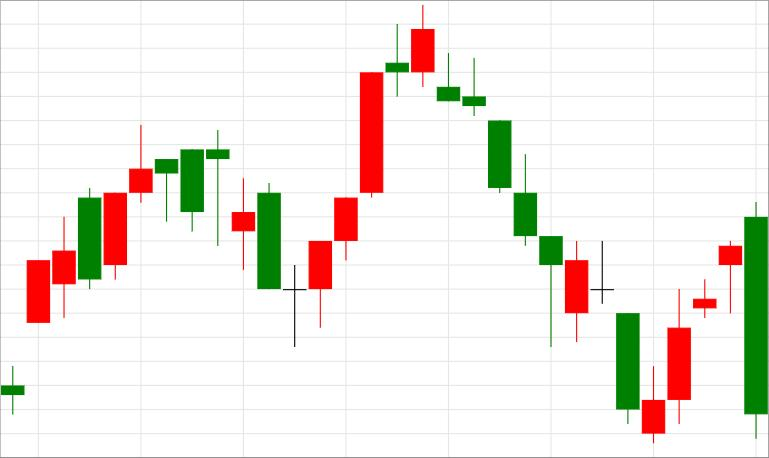bearish_engulfing_fall: (641, 201, 769, 444)
hammer_rise: (437, 54, 563, 346)
morning_star_rise: (206, 126, 332, 347)
three_white_soldiers_rise: (205, 72, 384, 346)
